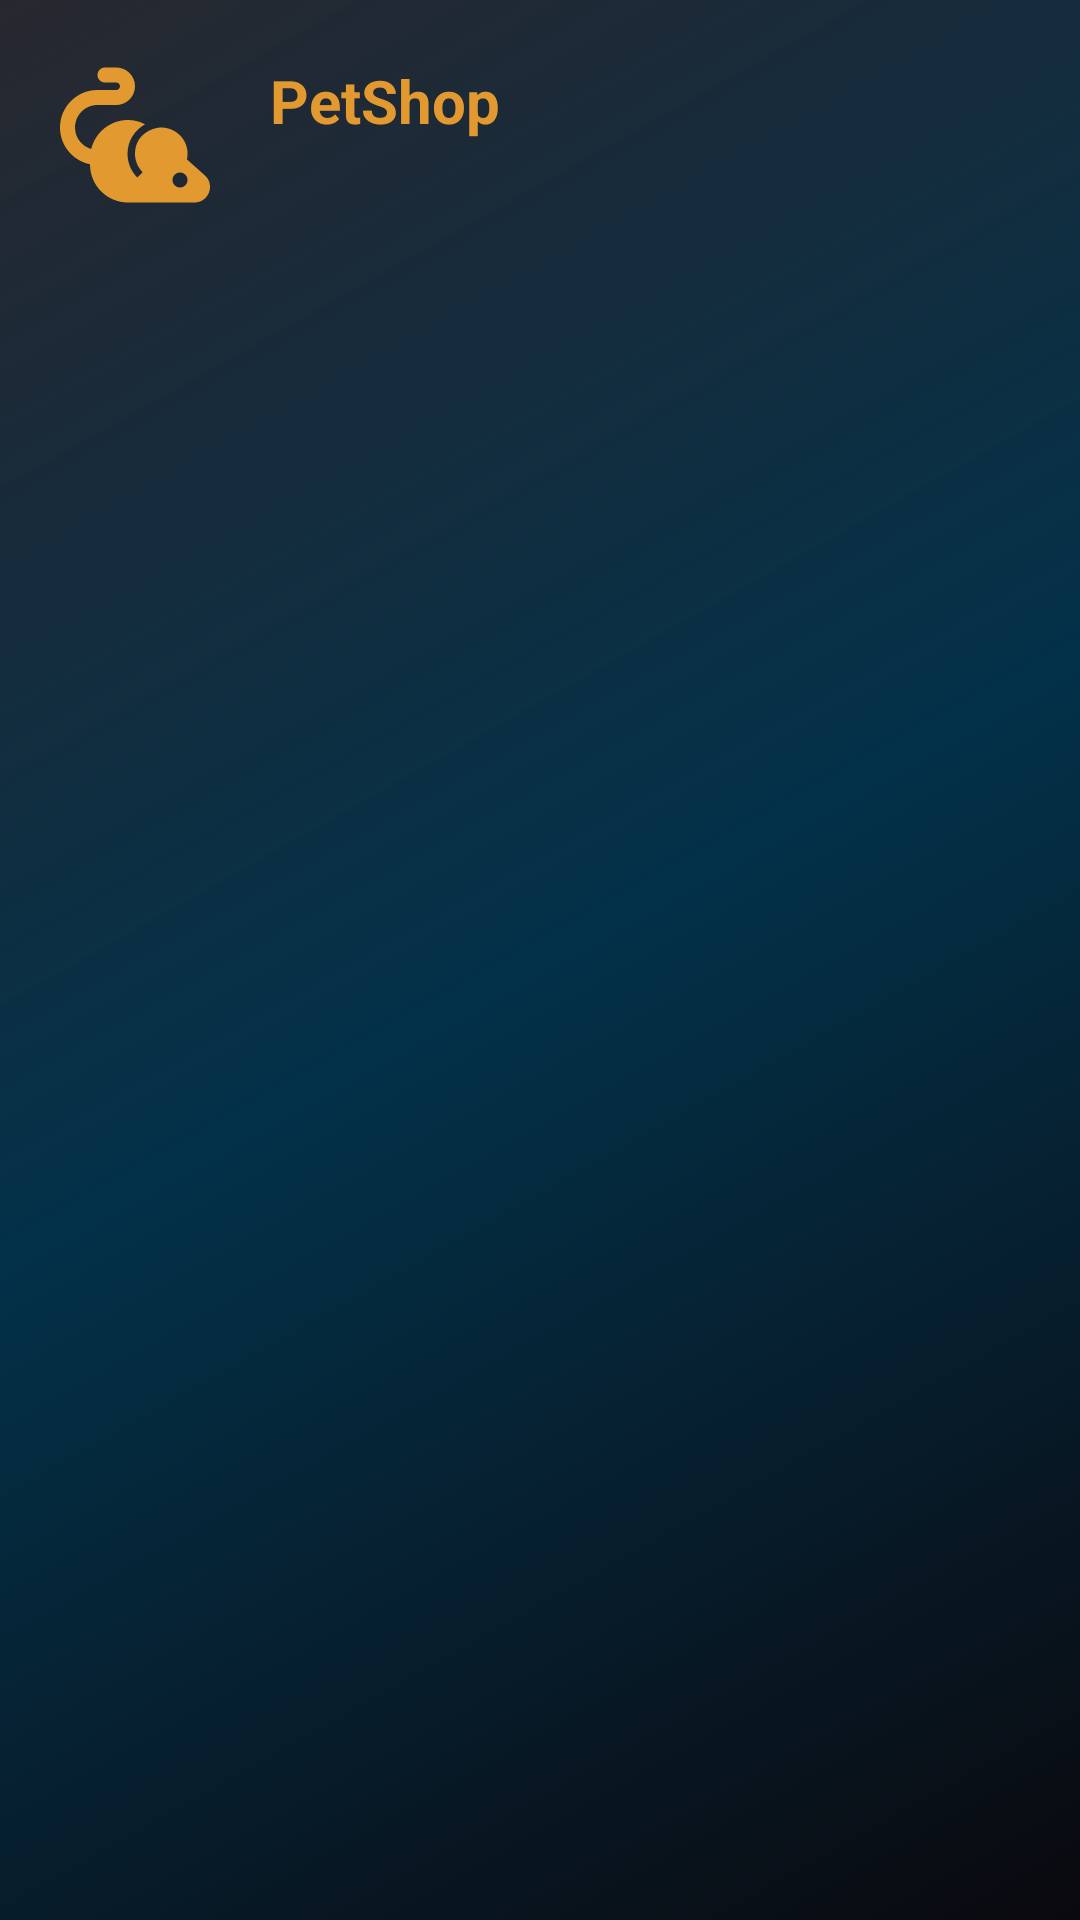

Named icons in this screenshot (1080w x 1920h) and their centers, (x,y):
pest control: (135,135)
